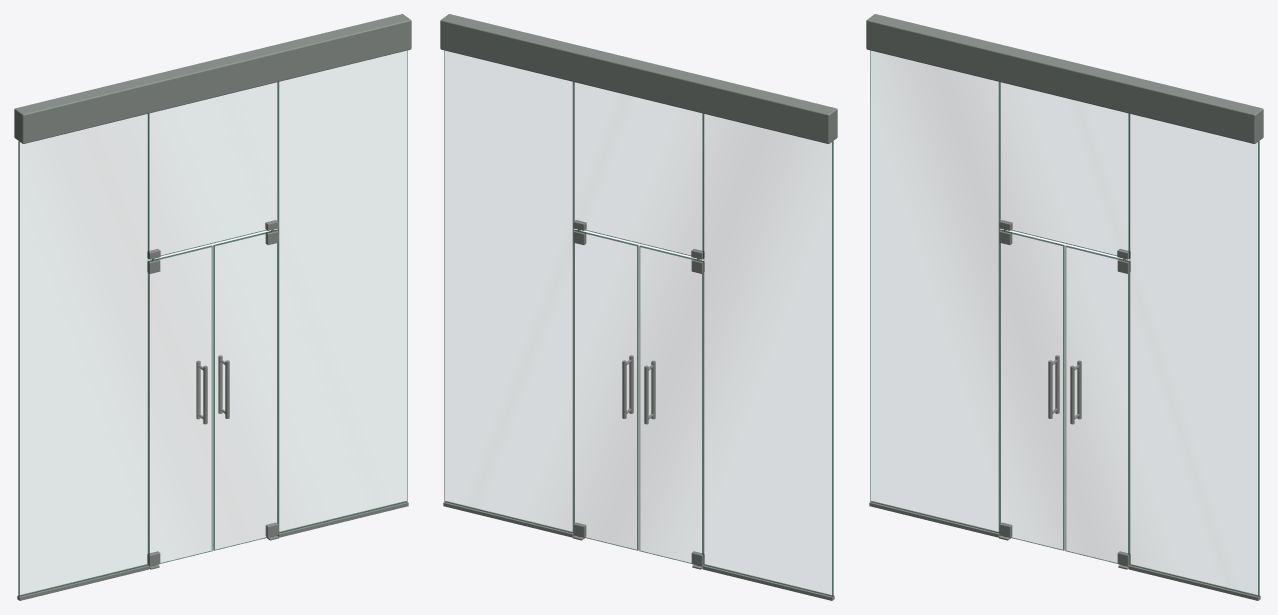
3 renders of one model, left to right at view 1: azimuth 30°, elevation 25°; view 2: azimuth 150°, elevation 25°; view 3: azimuth 330°, elevation 25°, orthographic.
Parts seen in each view (by area): view 1: GLASS_FramelessPanes_Closed, METAL_HeaderChannelFittings_Closed; view 2: GLASS_FramelessPanes_Closed, METAL_HeaderChannelFittings_Closed; view 3: GLASS_FramelessPanes_Closed, METAL_HeaderChannelFittings_Closed.
Boxes of the visible parts, x1=… form: GLASS_FramelessPanes_Closed: x1=18, y1=50, x2=407, y2=596; METAL_HeaderChannelFittings_Closed: x1=14, y1=14, x2=411, y2=600; GLASS_FramelessPanes_Closed: x1=444, y1=50, x2=833, y2=596; METAL_HeaderChannelFittings_Closed: x1=440, y1=14, x2=837, y2=600; GLASS_FramelessPanes_Closed: x1=870, y1=50, x2=1259, y2=596; METAL_HeaderChannelFittings_Closed: x1=866, y1=14, x2=1263, y2=600.
Bounding box in the file's own units: 3 × 3.6 × 0.12.
